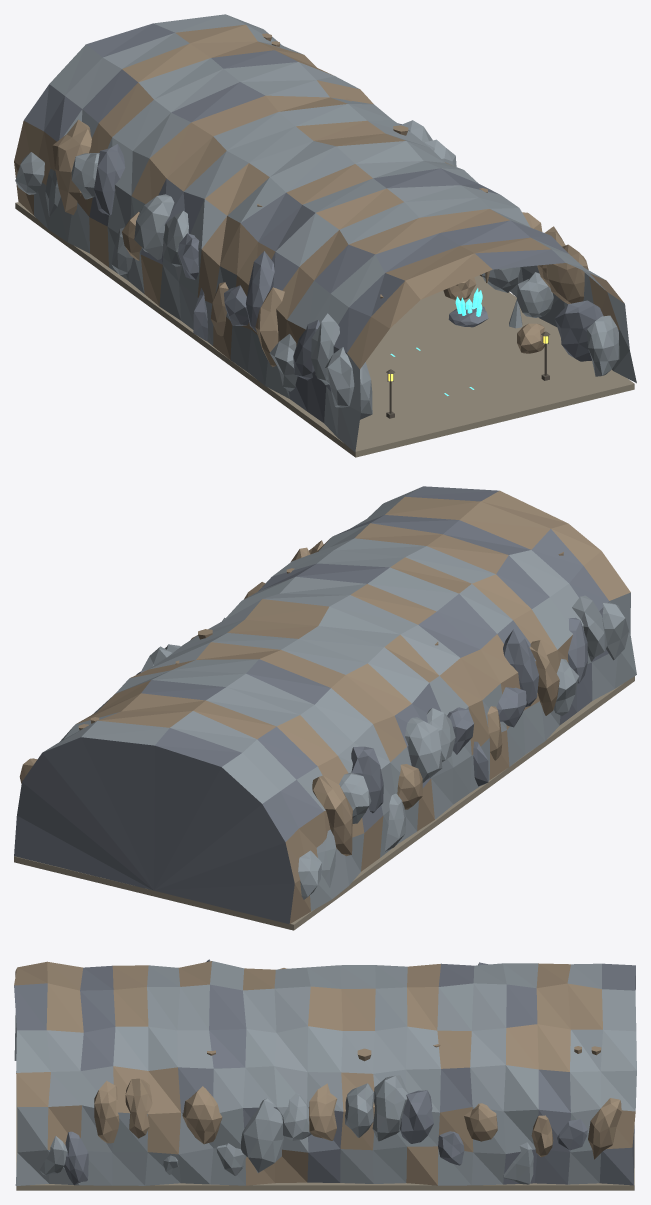
Rendered from crystal-cave.glb.
3 renders of one model, top to bottom at view 1: azimuth 30°, elevation 25°; view 2: azimuth 150°, elevation 25°; view 3: azimuth 270°, elevation 25°, orthographic. The views are drawn at different scales.
Visible parts, largest first — view 1: Cave_slate, Cave_ochre, Cave_shadow, Cave_path; view 2: Cave_shadow, Cave_slate, Cave_ochre, Cave_path; view 3: Cave_slate, Cave_ochre, Cave_shadow, Cave_path.
Part boxes in pixels (x1,y1,x2,y2): Cave_slate: (15,14,636,452); Cave_ochre: (14,24,624,368); Cave_shadow: (24,23,603,422); Cave_path: (15,202,634,457); Cave_shadow: (14,486,609,924); Cave_slate: (43,487,636,911); Cave_ochre: (19,490,630,923); Cave_path: (14,676,634,930); Cave_slate: (14,961,636,1185); Cave_ochre: (14,961,635,1185); Cave_shadow: (14,959,635,1185); Cave_path: (16,1084,634,1190).
Bounding box in the file's own units: 19.57 × 10.23 × 38.29.
